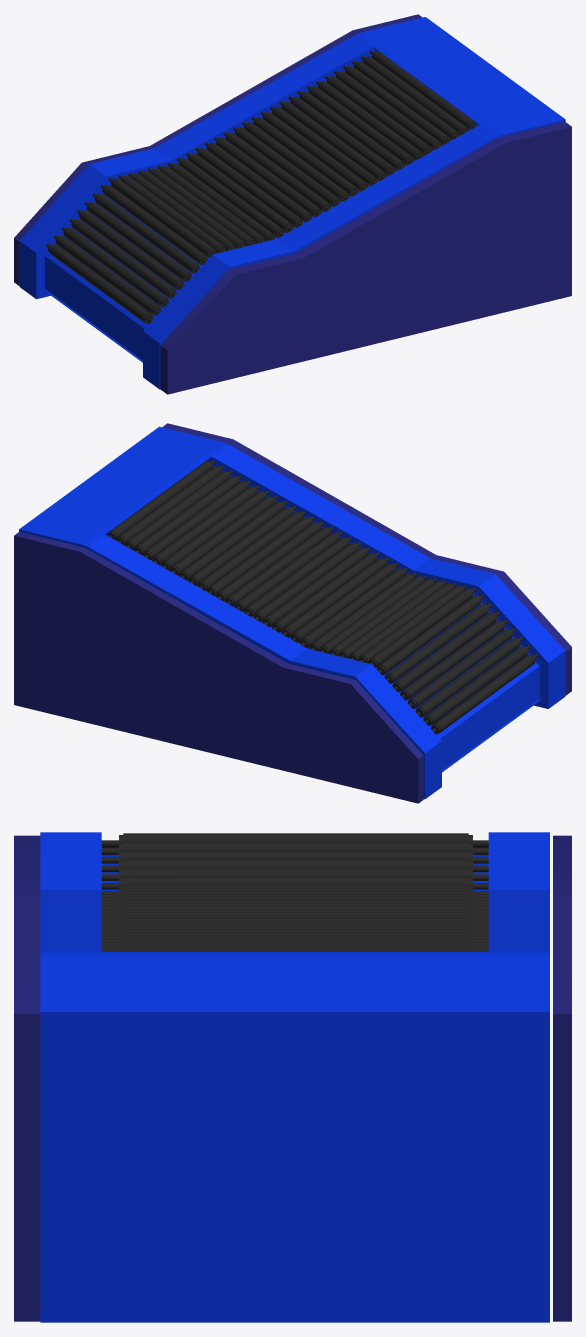
The model's file is Conveyer_Belt_v8.FBX.
3 renders of one model, top to bottom at view 1: azimuth 30°, elevation 25°; view 2: azimuth 150°, elevation 25°; view 3: azimuth 270°, elevation 25°, orthographic. The views are drawn at different scales.
Visible parts, largest first — view 1: Plane020, conv, Line002, Cylinder001; view 2: Plane020, conv, Line002, Cylinder001; view 3: Line002, conv, Plane020.
Boxes of the visible parts, x1=… form: Plane020: x1=14, y1=14, x2=571, y2=394; conv: x1=54, y1=50, x2=476, y2=315; Line002: x1=19, y1=17, x2=565, y2=389; Cylinder001: x1=46, y1=243, x2=153, y2=323; Plane020: x1=14, y1=423, x2=571, y2=803; conv: x1=108, y1=460, x2=530, y2=725; Line002: x1=19, y1=426, x2=565, y2=799; Cylinder001: x1=431, y1=653, x2=538, y2=734; Line002: x1=40, y1=832, x2=549, y2=1322; conv: x1=101, y1=833, x2=488, y2=951; Plane020: x1=14, y1=835, x2=571, y2=1321.
Bounding box in the file's own units: 866 × 349 × 567.
